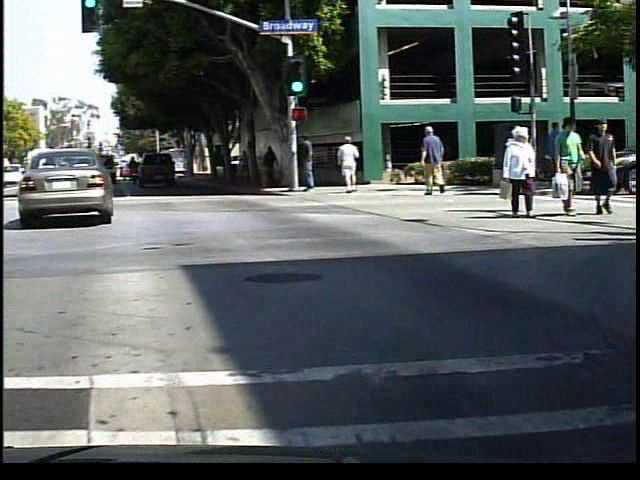person: (498, 125, 545, 219), (554, 117, 589, 218), (590, 118, 622, 218), (421, 125, 454, 197), (545, 116, 570, 190), (303, 131, 327, 200), (341, 136, 367, 197), (267, 142, 288, 191), (249, 146, 264, 191)
